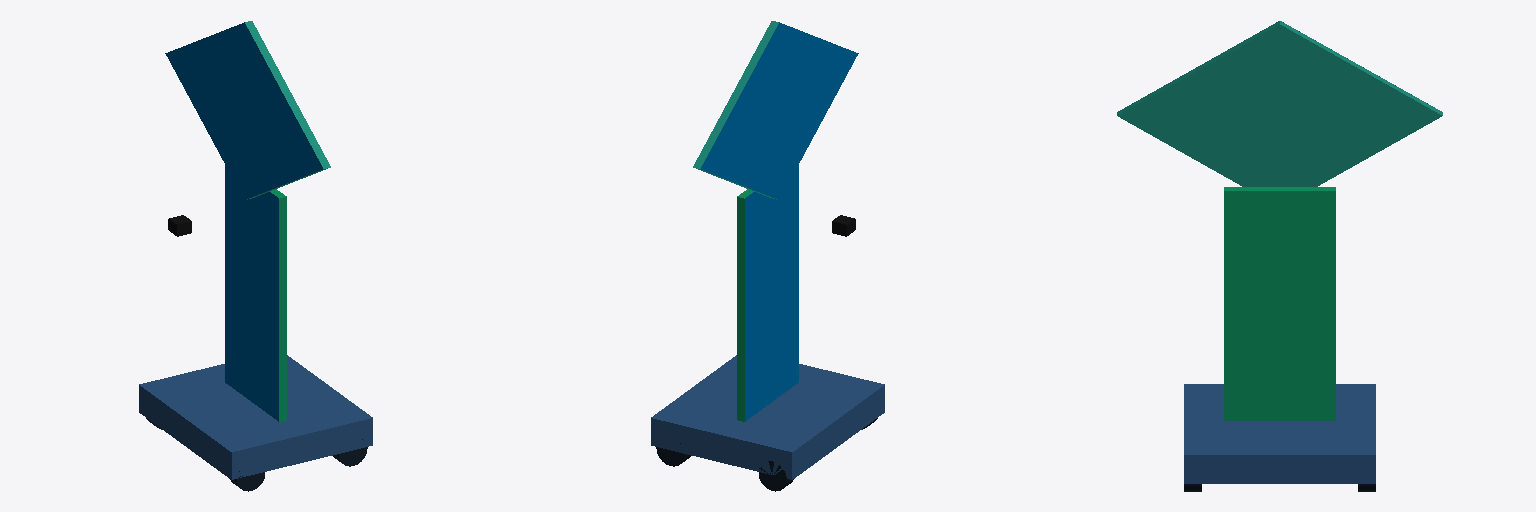
robot.urdf — goalkeeper_robot:
<?xml version="1.0" encoding="utf-8"?>
<robot name="goalkeeper_robot">

  <!--
    Coordinate convention:
      x: field depth / goal-normal direction
      y: lateral direction across the goal
      z: vertical direction
  -->

  <link name="world"/>

  <link name="base_link">
    <inertial>
      <mass value="0.001"/>
      <inertia
        ixx="1e-6" iyy="1e-6" izz="1e-6"
        ixy="0.0" ixz="0.0" iyz="0.0"/>
    </inertial>
  </link>

  <joint name="world_to_base" type="fixed">
    <parent link="world"/>
    <child link="base_link"/>
    <origin xyz="0 0 0" rpy="0 0 0"/>
  </joint>

  <!-- Sliding chassis -->
  <link name="keeper_chassis">

    <!-- Approximate chassis mass: shell 37 kg + support 1 kg + wheels 4 kg = 42 kg -->
    <inertial>
      <origin xyz="0 0 0.11" rpy="0 0 0"/>
      <mass value="42.0"/>
      <inertia
        ixx="2.69815"
        iyy="2.13815"
        izz="4.49750"
        ixy="0.0"
        ixz="0.0"
        iyz="0.0"/>
    </inertial>

    <visual name="chassis_visual">
      <origin xyz="0 0 0.15" rpy="0 0 0"/>
      <geometry>
        <box size="0.75 0.85 0.14"/>
      </geometry>
      <material name="chassis_material">
        <color rgba="0.20 0.35 0.51 1"/>
      </material>
    </visual>

    <collision name="chassis_collision">
      <origin xyz="0 0 0.15" rpy="0 0 0"/>
      <geometry>
        <box size="0.75 0.85 0.14"/>
      </geometry>
    </collision>

    <!-- Wheels are passive geometry. The slide_joint provides lateral motion. -->
    <visual name="front_left_wheel_visual">
      <origin xyz="0.27 0.385 0.075" rpy="1.57079632679 0 0"/>
      <geometry>
        <cylinder radius="0.075" length="0.08"/>
      </geometry>
      <material name="wheel_material">
        <color rgba="0.10 0.14 0.19 1"/>
      </material>
    </visual>

    <collision name="front_left_wheel_collision">
      <origin xyz="0.27 0.385 0.075" rpy="1.57079632679 0 0"/>
      <geometry>
        <cylinder radius="0.075" length="0.08"/>
      </geometry>
    </collision>

    <visual name="front_right_wheel_visual">
      <origin xyz="0.27 -0.385 0.075" rpy="1.57079632679 0 0"/>
      <geometry>
        <cylinder radius="0.075" length="0.08"/>
      </geometry>
      <material name="wheel_material"/>
    </visual>

    <collision name="front_right_wheel_collision">
      <origin xyz="0.27 -0.385 0.075" rpy="1.57079632679 0 0"/>
      <geometry>
        <cylinder radius="0.075" length="0.08"/>
      </geometry>
    </collision>

    <visual name="rear_left_wheel_visual">
      <origin xyz="-0.27 0.385 0.075" rpy="1.57079632679 0 0"/>
      <geometry>
        <cylinder radius="0.075" length="0.08"/>
      </geometry>
      <material name="wheel_material"/>
    </visual>

    <collision name="rear_left_wheel_collision">
      <origin xyz="-0.27 0.385 0.075" rpy="1.57079632679 0 0"/>
      <geometry>
        <cylinder radius="0.075" length="0.08"/>
      </geometry>
    </collision>

    <visual name="rear_right_wheel_visual">
      <origin xyz="-0.27 -0.385 0.075" rpy="1.57079632679 0 0"/>
      <geometry>
        <cylinder radius="0.075" length="0.08"/>
      </geometry>
      <material name="wheel_material"/>
    </visual>

    <collision name="rear_right_wheel_collision">
      <origin xyz="-0.27 -0.385 0.075" rpy="1.57079632679 0 0"/>
      <geometry>
        <cylinder radius="0.075" length="0.08"/>
      </geometry>
    </collision>

  </link>

  <!-- Lateral movement across the goal -->
  <joint name="slide_joint" type="prismatic">
    <parent link="base_link"/>
    <child link="keeper_chassis"/>
    <origin xyz="0 0 0" rpy="0 0 0"/>
    <axis xyz="0 1 0"/>
    <limit
      lower="-3.55"
      upper="3.55"
      velocity="2.0"
      effort="650.0"/>
  </joint>

  <gazebo reference="keeper_chassis">
    <mu1>0.0</mu1>
    <mu2>0.0</mu2>
  </gazebo>

  <!-- Add RGBD camera -->
  <link name="camera_link">
    <visual>
      <geometry>
        <box size="0.08 0.08 0.06"/>
      </geometry>
      <material name="camera_material">
        <color rgba="0.1 0.1 0.1 1"/>
      </material>
    </visual>

    <inertial>
      <mass value="0.1"/>
      <inertia
        ixx="0.0001"
        iyy="0.0001"
        izz="0.0001"
        ixy="0"
        ixz="0"
        iyz="0"/>
    </inertial>
  </link>

  <joint name="camera_joint" type="fixed">
    <parent link="keeper_chassis"/>
    <child link="camera_link"/>
    <!-- Mounted toward the field -->
    <origin xyz="-0.40 0 1.20"
            rpy="0 0 3.14159"/>
  </joint>


  <!-- Tilting goalkeeper panel -->
  <link name="keeper_panel">

    <!-- Approximate combined panel mass: rectangle 25 kg + diamond 18 kg = 43 kg -->
    <inertial>
      <origin xyz="-0.0167 0 0.948" rpy="0 0 0"/>
      <mass value="43.0"/>
      <inertia
        ixx="21.44"
        iyy="13.91"
        izz="7.54"
        ixy="0.0"
        ixz="0.0"
        iyz="0.0"/>
    </inertial>

    <visual name="rectangle_panel_visual">
      <origin xyz="0 0 0.565" rpy="0 0 0"/>
      <geometry>
        <box size="0.04 0.50 1.13"/>
      </geometry>
      <material name="rectangle_panel_material">
        <color rgba="0.08 0.60 0.40 1"/>
      </material>
    </visual>

    <collision name="rectangle_panel_collision">
      <origin xyz="0 0 0.565" rpy="0 0 0"/>
      <geometry>
        <box size="0.04 0.50 1.13"/>
      </geometry>
    </collision>

    <visual name="diamond_panel_visual">
      <origin xyz="-0.04 0 1.48" rpy="0 0 0"/>
      <geometry>
        <mesh filename="package://goalkeeper_description/meshes/diamond_panel.stl"/>
      </geometry>
      <material name="diamond_panel_material">
        <color rgba="0.14 0.57 0.50 1"/>
      </material>
    </visual>

    <collision name="diamond_panel_collision">
      <origin xyz="-0.04 0 1.48" rpy="0 0 0"/>
      <geometry>
        <mesh filename="package://goalkeeper_description/meshes/diamond_panel.stl"/>
      </geometry>
    </collision>

    <visual name="keeper_front_decal">
      <origin xyz="0 0 -0.22" rpy="0 0 0"/>
      <geometry>
        <mesh filename="package://goalkeeper_description/meshes/keeper-front-decal.obj"/>
      </geometry>
    </visual>

  </link>

  <!-- Tilt left/right in the y-z plane around the x axis -->
  <joint name="tilt_joint" type="revolute">
    <parent link="keeper_chassis"/>
    <child link="keeper_panel"/>
    <origin xyz="0 0 0.22" rpy="0 0 0"/>
    <axis xyz="1 0 0"/>
    <!-- avoid hitting the ground -->
    <limit 
      lower="-1.0"
      upper="1.0"
      velocity="6.5"
      effort="1000"/>
  </joint>

  <!-- Gazebo joint control -->
  <gazebo>

    <plugin
      filename="gz-sim-joint-trajectory-controller-system"
      name="gz::sim::systems::JointTrajectoryController">

      <topic>/model/goalkeeper_robot/joint_trajectory</topic>

      <joint_name>slide_joint</joint_name>
      <initial_position>0.0</initial_position>
      <position_p_gain>800</position_p_gain>
      <position_i_gain>0</position_i_gain>
      <position_d_gain>250</position_d_gain>
      <position_i_max>0</position_i_max>
      <position_i_min>0</position_i_min>
      <position_cmd_max>650</position_cmd_max>
      <position_cmd_min>-650</position_cmd_min>

      <joint_name>tilt_joint</joint_name>
      <initial_position>0.0</initial_position>
      <position_p_gain>1200</position_p_gain>
      <position_i_gain>0</position_i_gain>
      <position_d_gain>400</position_d_gain>
      <position_i_max>0</position_i_max>
      <position_i_min>0</position_i_min>
      <position_cmd_max>1500</position_cmd_max>
      <position_cmd_min>-1500</position_cmd_min>

    </plugin>

    <plugin
      filename="gz-sim-joint-state-publisher-system"
      name="gz::sim::systems::JointStatePublisher">
      <joint_name>slide_joint</joint_name>
      <joint_name>tilt_joint</joint_name>
    </plugin>

  </gazebo>

  <gazebo reference="camera_link">

    <sensor name="goalkeeper_camera" type="rgbd_camera">

      <always_on>1</always_on>
      <update_rate>20</update_rate>
      <topic>/goalkeeper/camera</topic>

      <camera>
        <horizontal_fov>1.047</horizontal_fov>

        <image>
          <width>320</width>
          <height>240</height>
        </image>

        <clip>
          <near>0.1</near>
          <far>30.0</far>
        </clip>
      </camera>
    </sensor>
  </gazebo>

</robot>

--- What the picture shows (computed from the rendered views, not written in the file) ---
Views: 3 orthographic renders of the robot side by side, from view 1: azimuth 30°, elevation 25°; view 2: azimuth 150°, elevation 25°; view 3: azimuth 270°, elevation 25°.
Robot: goalkeeper_robot — 5 links, 4 joints (1 revolute, 1 prismatic, 2 fixed); root link world; default pose: all joints at 0.
Visible links, largest first — view 1: keeper_panel, keeper_chassis; view 2: keeper_panel, keeper_chassis; view 3: keeper_panel, keeper_chassis.
Boxes of the visible links, x1=… form: keeper_panel: x1=165, y1=21, x2=330, y2=421; keeper_chassis: x1=139, y1=355, x2=372, y2=491; keeper_panel: x1=693, y1=21, x2=858, y2=421; keeper_chassis: x1=651, y1=355, x2=884, y2=491; keeper_panel: x1=1117, y1=21, x2=1442, y2=420; keeper_chassis: x1=1184, y1=384, x2=1375, y2=491.
Size in the robot's own frame: 0.815 by 1.45 by 2.15 metres.
Meshes: 2 distinct files referenced, 2 mesh visuals loaded (1 ASCII STL, 1 OBJ).
